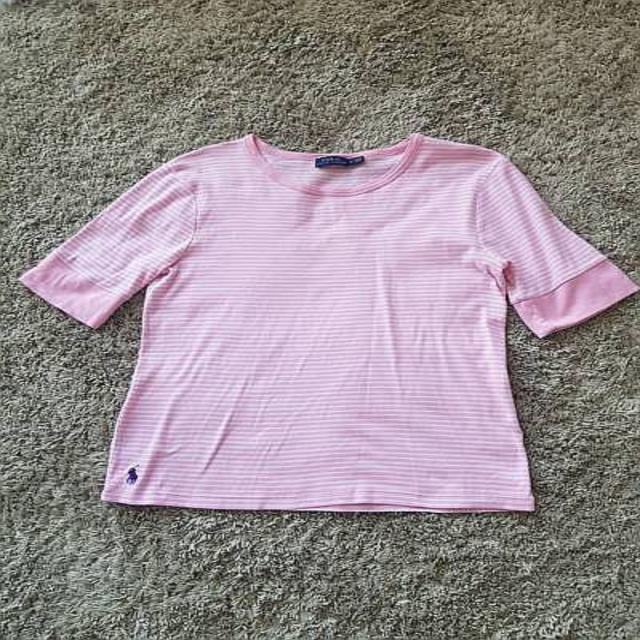T_SHIRT: (12, 126, 640, 527)
